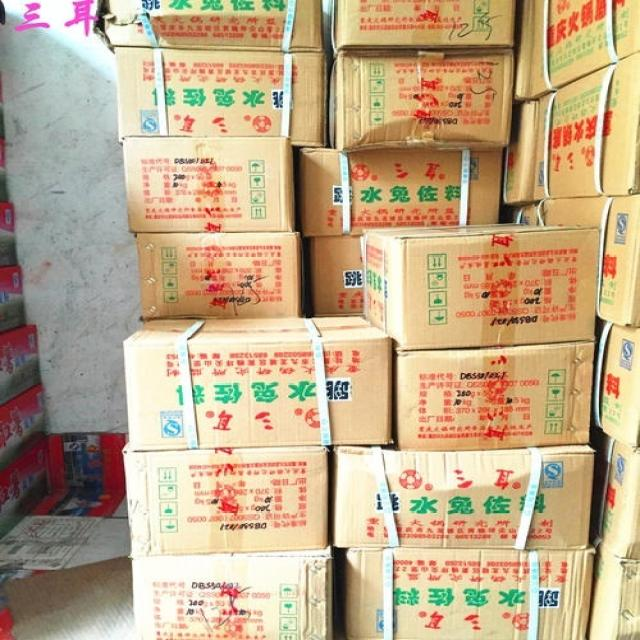box: (120, 314, 392, 451), (361, 222, 600, 351), (330, 444, 595, 550), (122, 442, 329, 559), (344, 549, 599, 639), (393, 341, 595, 451), (116, 48, 326, 148), (329, 48, 515, 152), (297, 147, 504, 238), (131, 549, 335, 640), (512, 194, 640, 328), (123, 135, 296, 234), (532, 54, 640, 203), (134, 231, 308, 323), (516, 0, 640, 103), (92, 0, 325, 53), (326, 0, 516, 58), (593, 429, 640, 559), (595, 323, 640, 450), (589, 536, 640, 639), (305, 235, 364, 316), (504, 102, 540, 207)
